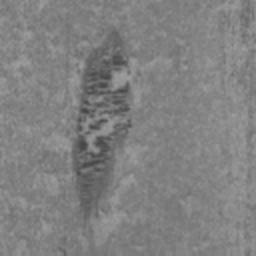Oxide scale of plate system: (61, 24, 140, 253)
